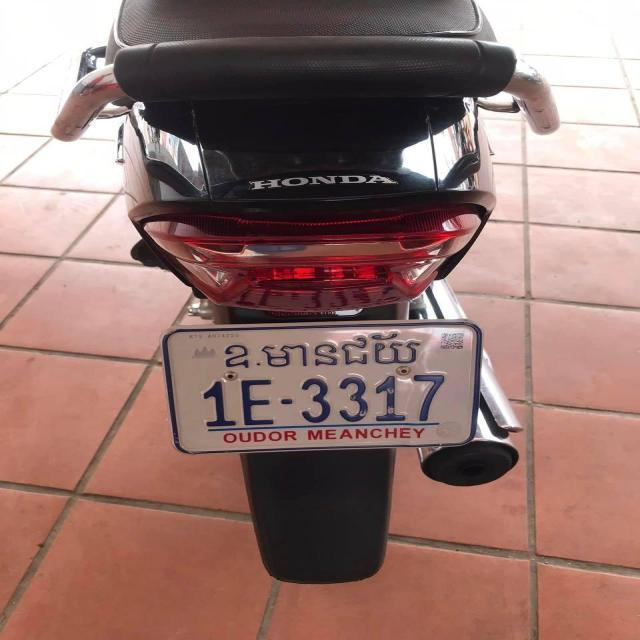Oudor_Meanchey: (219, 330, 428, 374)
